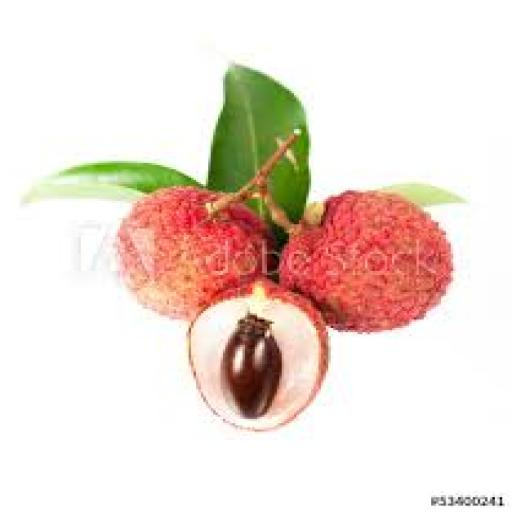lychee: (280, 193, 453, 332), (189, 280, 328, 429), (116, 187, 271, 319)
